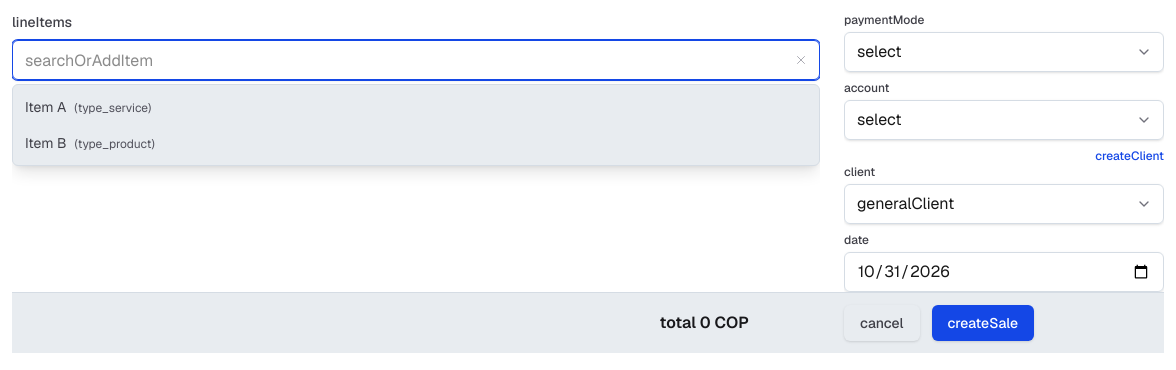
SaleForm POS search-add pattern (C12-3c) › removing a row removes it from the cart
The image size is (1176, 370).
Check: the list with id "item-search-listbox" is shown, box [12,84,820,166]
Step 1. Press the mouse on the option "Item A(type_service)" → (88, 107), box [25,98,151,116]
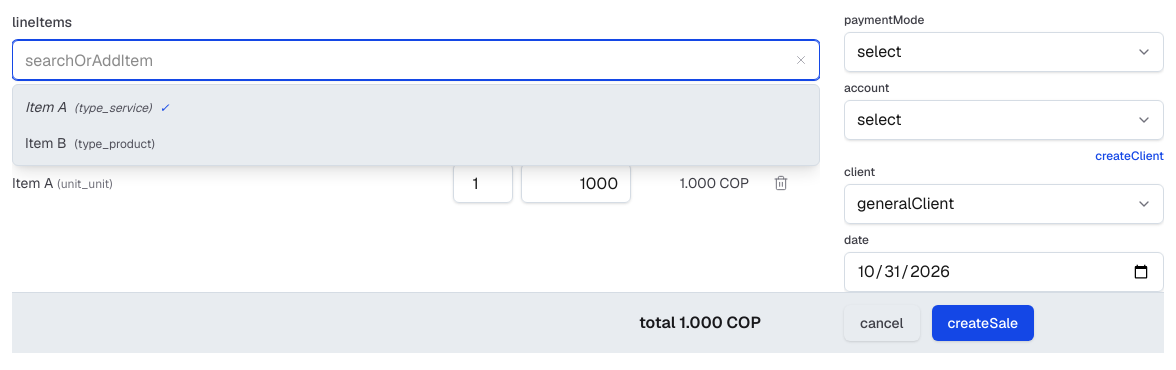
Check: the list with id "item-search-listbox" is shown, box [12,84,820,166]
Step 2. Press the mouse on the option "Item B(type_product)" → (90, 143), box [25,134,155,152]
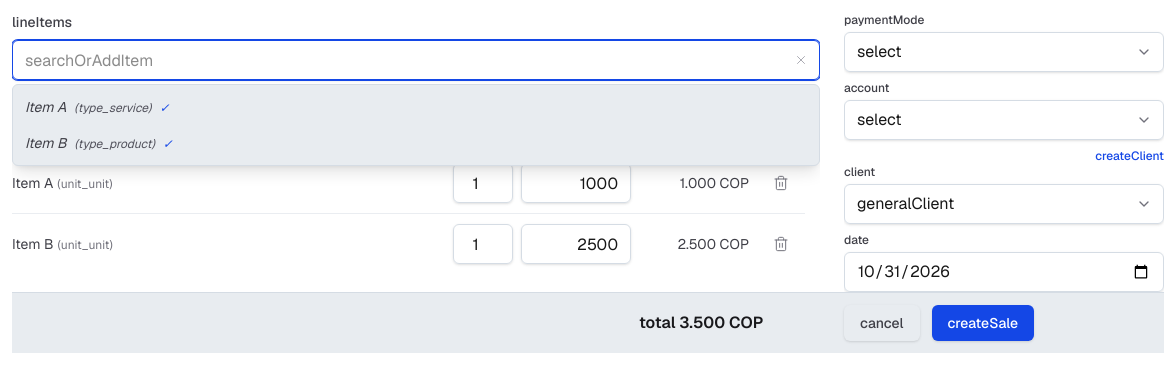
Check: the number of number fields is 2, box [453,163,513,203]; [453,224,513,264]
Step 3. Click the button named "remove" next to "1.000 COP" → click(781, 183), box [757,161,805,205]
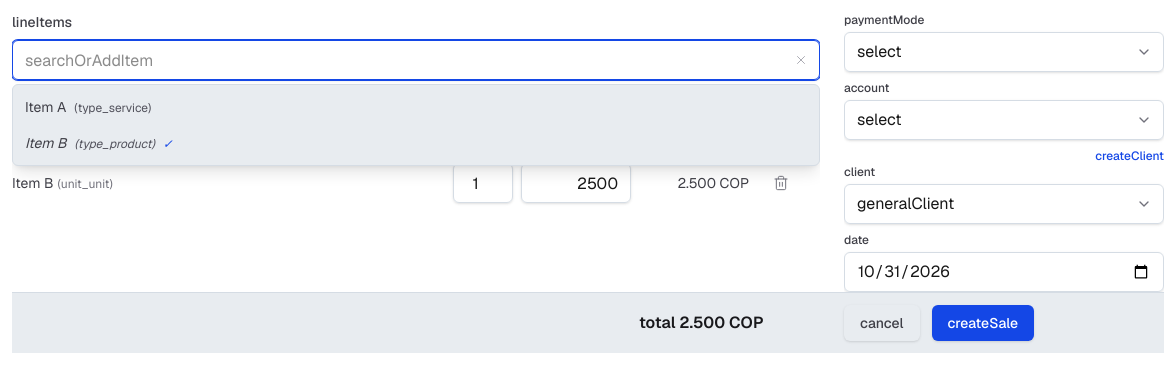
Check: the number of number fields is 1, box [453,163,513,203]
